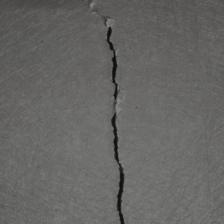Medium: (82, 21, 158, 213)
